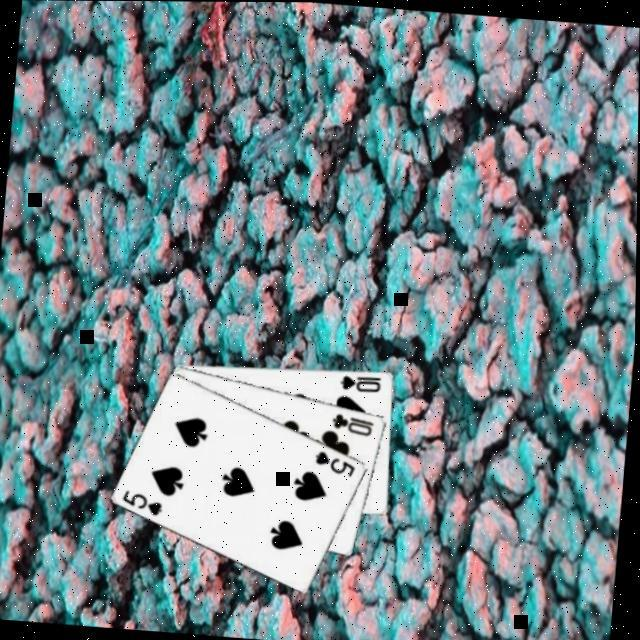10C: (328, 409, 378, 438)
10S: (337, 370, 384, 395)
5S: (311, 447, 359, 479), (118, 487, 166, 519)
